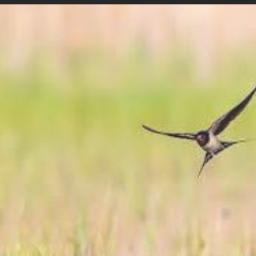Swallow: (140, 82, 256, 174)
